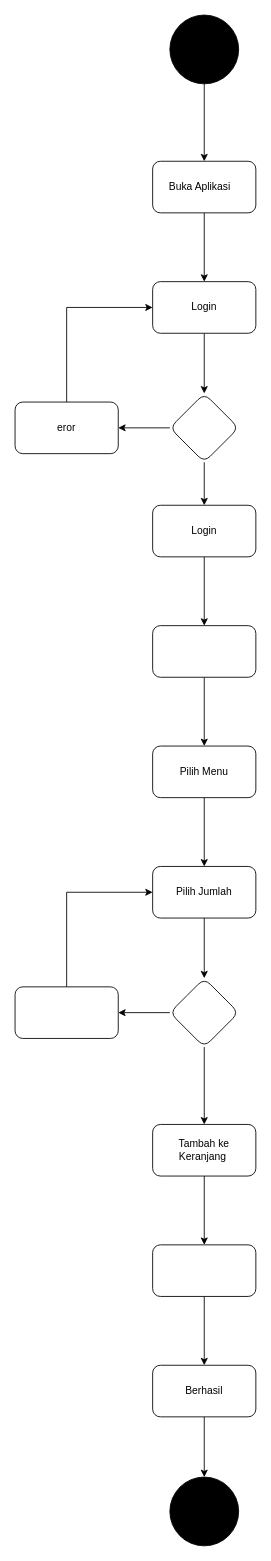
Image size: 271x1561. Some labels were removed from this diagram. Here are the shapes that lost their labels. From the top down, the box of each, then its label:
(152, 625, 256, 677): Halaman Utama
(14, 986, 118, 1038): Habis
(152, 1244, 256, 1296): Komfirmasi penbayaran
